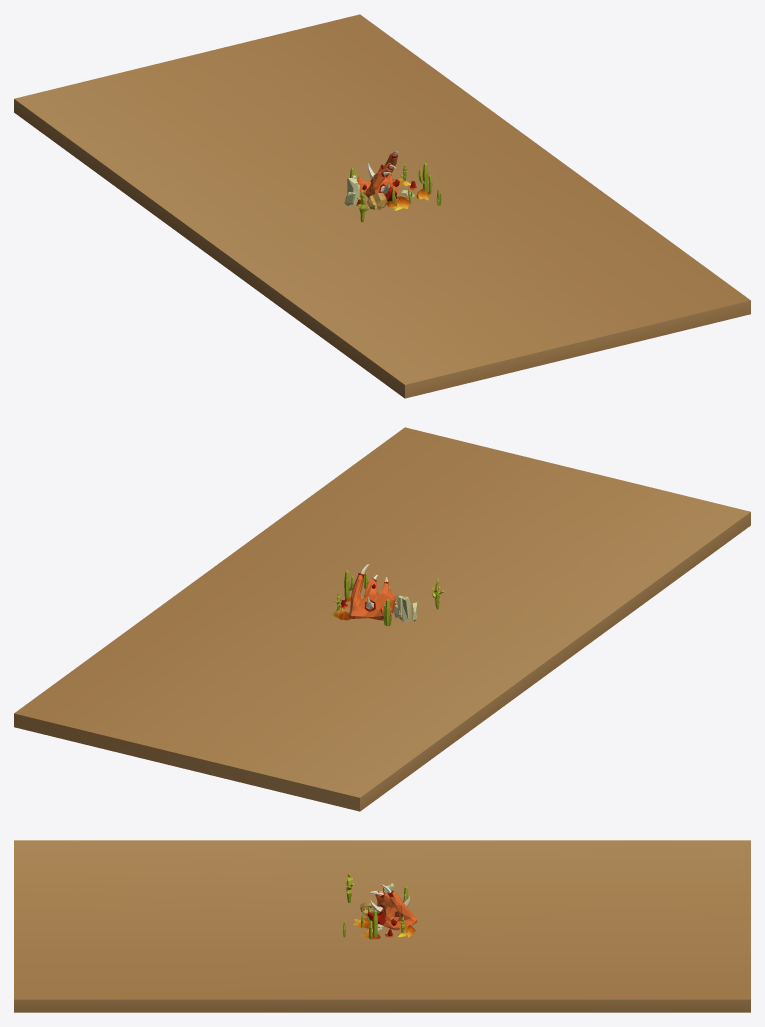
Rendered from new_environment_7.fbx.
The picture shows the model from 3 angles, top to bottom: view 1: azimuth 30°, elevation 25°; view 2: azimuth 150°, elevation 25°; view 3: azimuth 270°, elevation 25°; orthographic projection. The views are drawn at different scales.
Visible parts, largest first — view 1: pCube1, polySurface96; view 2: pCube1, polySurface96; view 3: pCube1, polySurface96.
Part boxes in pixels (bbox=[...]): pCube1: bbox=[14, 14, 750, 398]; polySurface96: bbox=[356, 151, 417, 205]; pCube1: bbox=[14, 427, 750, 811]; polySurface96: bbox=[340, 564, 401, 620]; pCube1: bbox=[14, 840, 750, 1012]; polySurface96: bbox=[367, 884, 417, 937].
Bounding box in the file's own units: 672 × 108 × 1314.
1 material, 1 textured.
